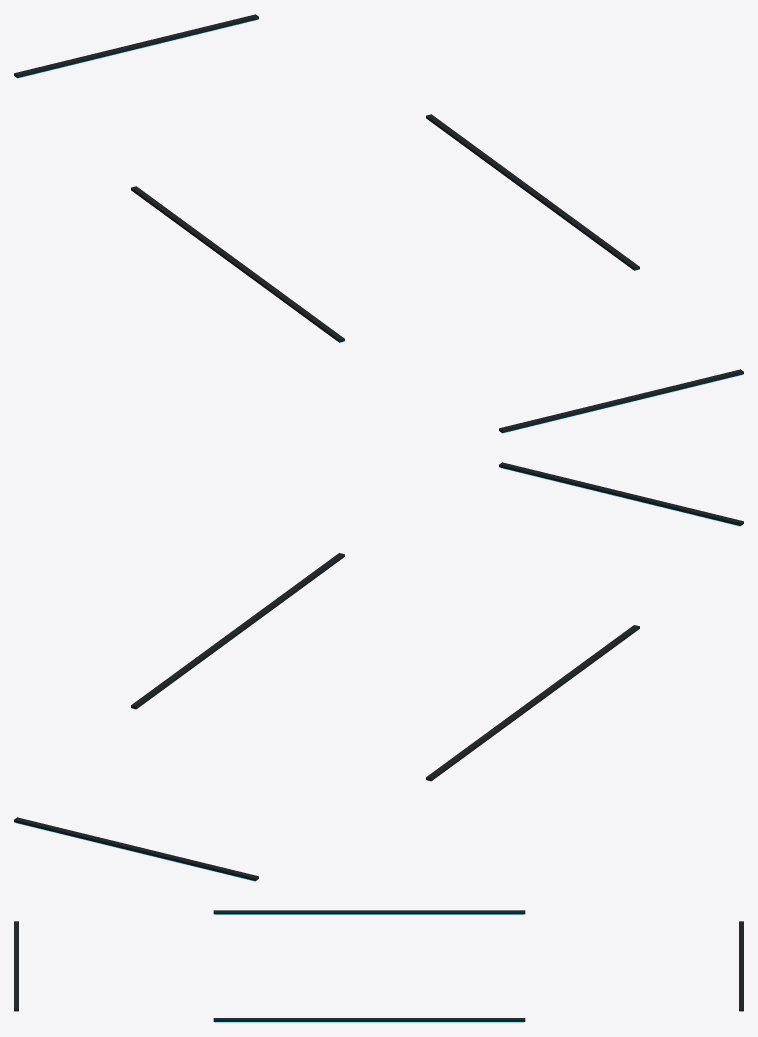
File: strada_evo.glb
3 renders of one model, top to bottom at view 1: azimuth 30°, elevation 25°; view 2: azimuth 150°, elevation 25°; view 3: azimuth 270°, elevation 25°, orthographic. The views are drawn at different scales.
Visible parts, largest first — view 1: model; view 2: model; view 3: model.
Part boxes in pixels (x1,y1,x2,y2): model: (14,14,743,433); model: (14,462,743,881); model: (14,910,743,1022).
Bounding box in the file's own units: 1.48 × 0.0178 × 4.16.
2 materials, 1 textured.
